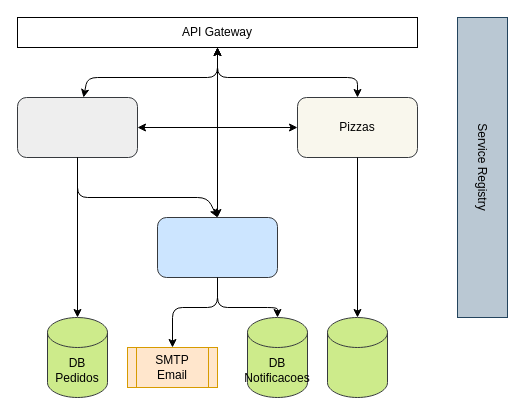
This 525x415 diagram has some shape labels left out. Here are the shapes that lost their labels. From the top down, the centre of each, then its label:
At point 77,127: "Pedidos".
At point 217,247: "Notificacoes".
At point 357,357: "DB Pizzas".
